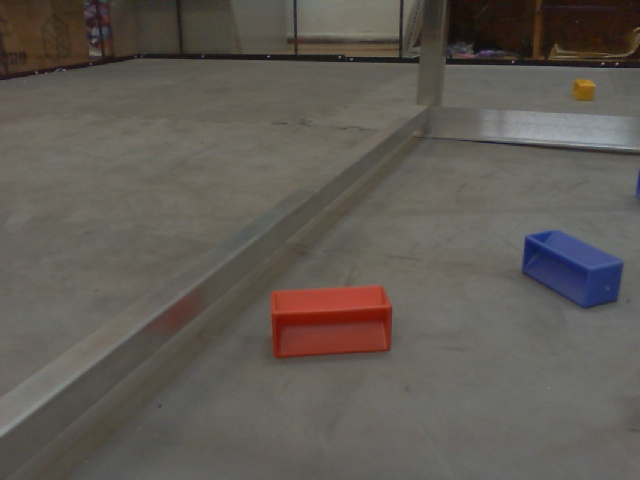BlueSample: (267, 283, 395, 361), (521, 225, 623, 311)
YellowSample: (572, 78, 597, 102)
